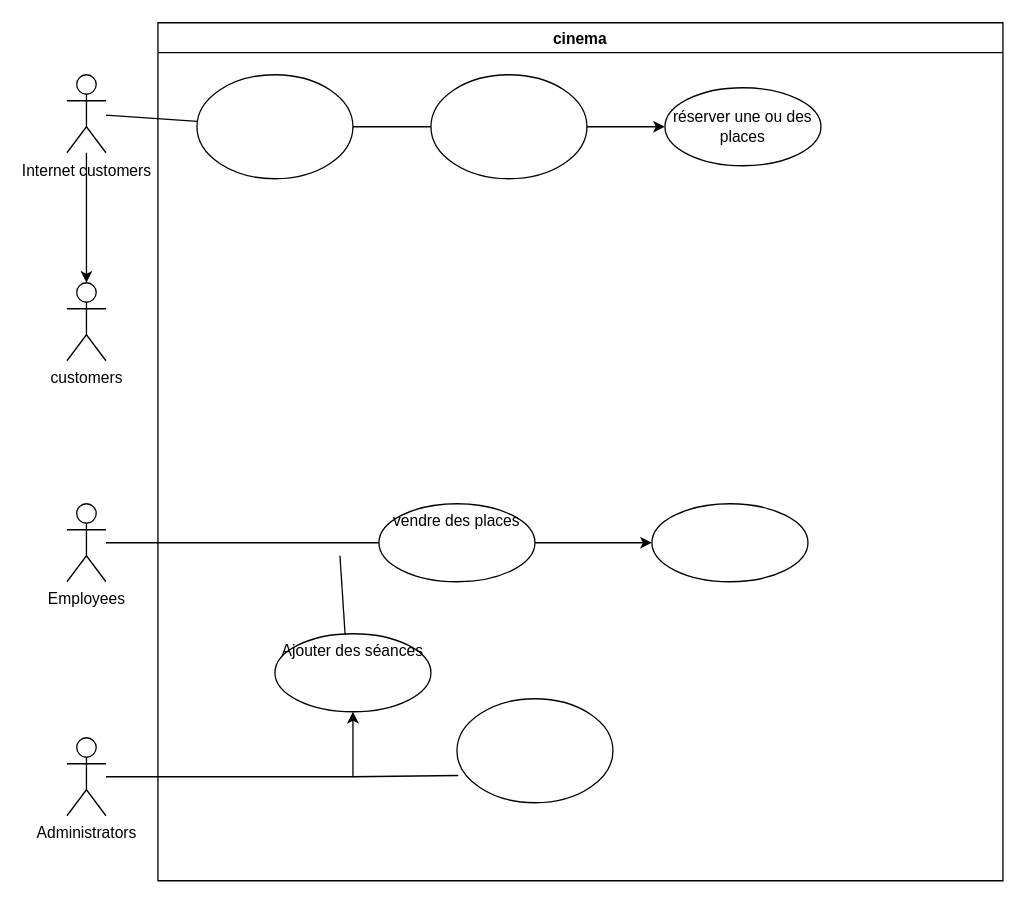
This 1026x903 diagram has some shape labels left out. The shapes that lost their labels are listed below. From the top down, each one's centre as x and y in pixels, then its label:
At pixel 274 126: "choisir son cinéma".
At pixel 508 126: "choisir une séance".
At pixel 729 542: "délivrer des tickets physique".
At pixel 534 750: "mettre a jour les séances".
